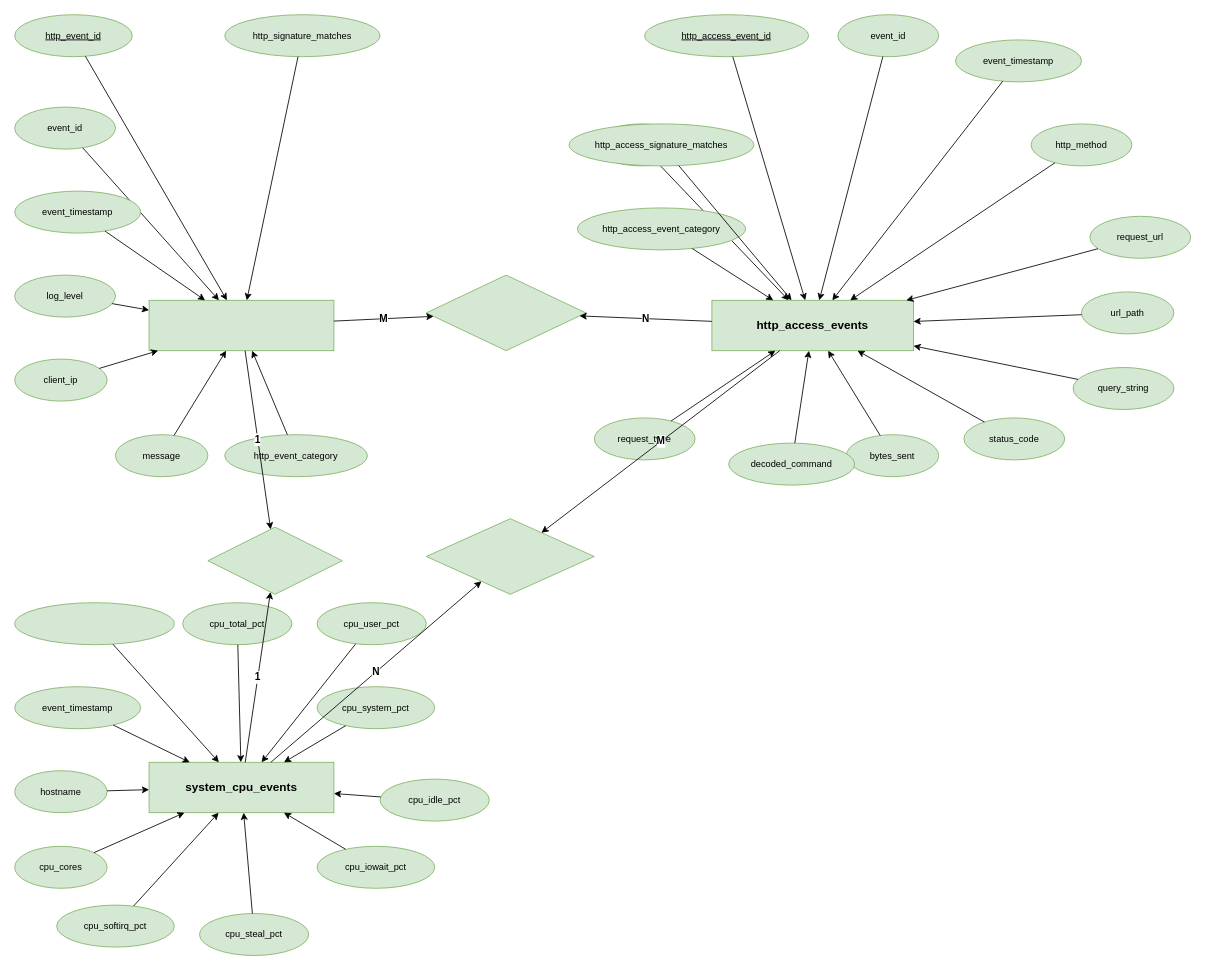
Image size: 1205x970. Some labels were removed from this diagram. The shapes that lost their labels are listed below. From the top down, each one's box as (x1, y1, x2, y2) in pixels, then its label:
(148, 299, 334, 351): http_events
(425, 274, 586, 351): SHARES CLIENT_IP
(207, 526, 342, 594): SAME SERVER
(425, 518, 594, 594): CORRELATES BY TIME
(14, 602, 174, 645): system_cpu_event_id
